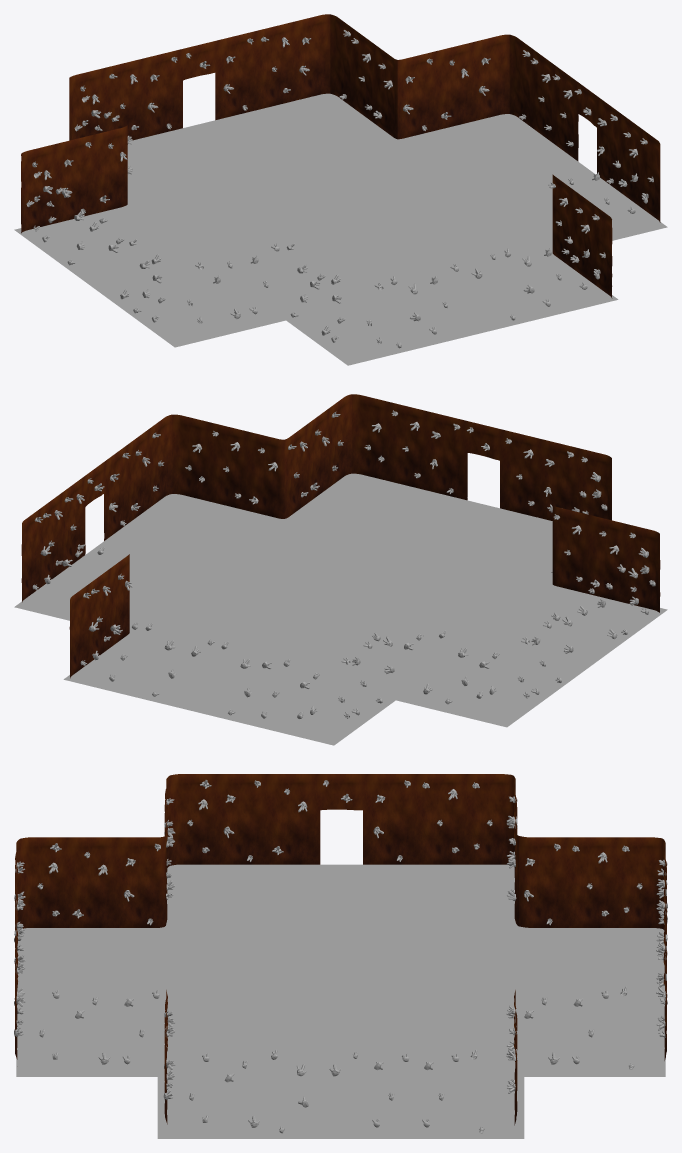
The model's file is room_3.fbx.
3 renders of one model, top to bottom at view 1: azimuth 30°, elevation 25°; view 2: azimuth 150°, elevation 25°; view 3: azimuth 270°, elevation 25°, orthographic. The views are drawn at different scales.
Parts seen in each view (by area): view 1: room_3; view 2: room_3; view 3: room_3.
Boxes of the visible parts, box(x1,y1,x2,y2) form: room_3: box(14, 14, 667, 365); room_3: box(14, 394, 667, 745); room_3: box(14, 774, 667, 1138).
Size of the model in its own units: 1309 by 200 by 1310.
